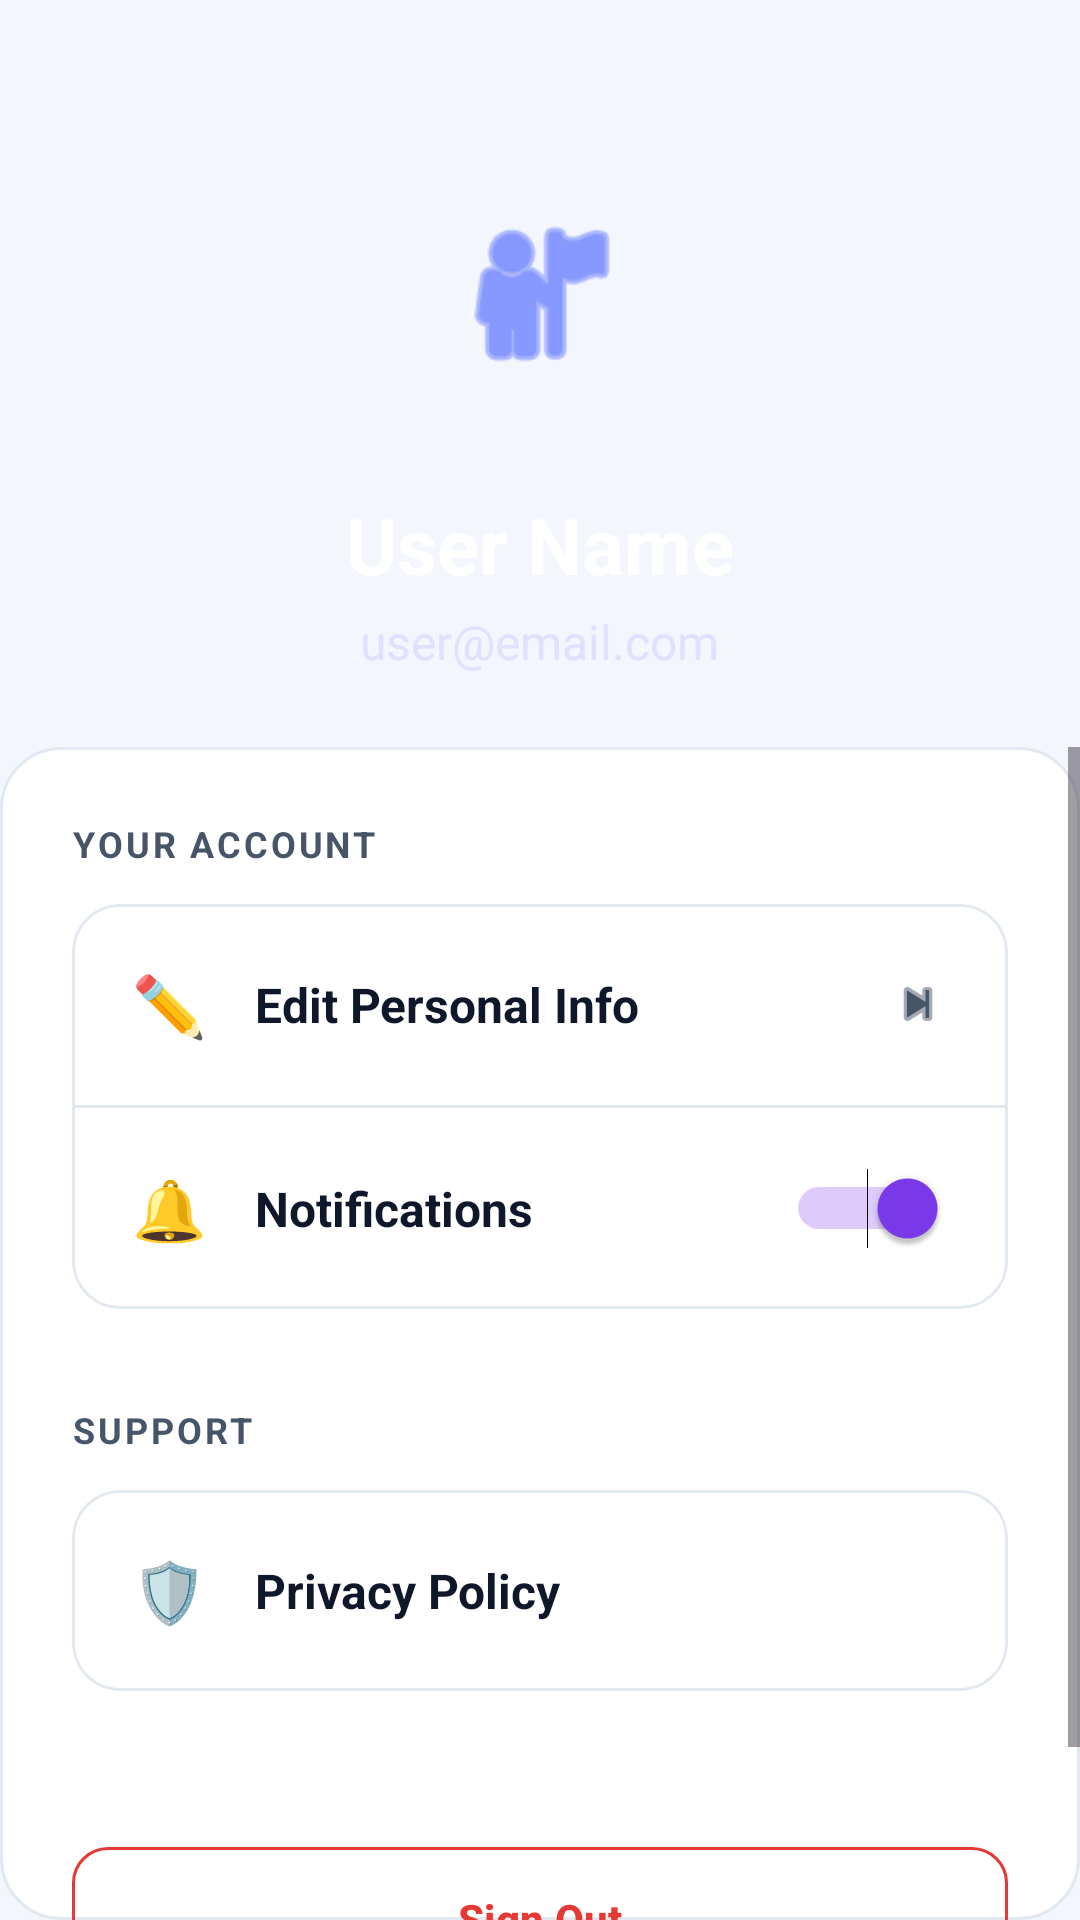

Icon click points for this 1080*1920 phone screenshot, format point (x, y):
next: point (918, 1004)
